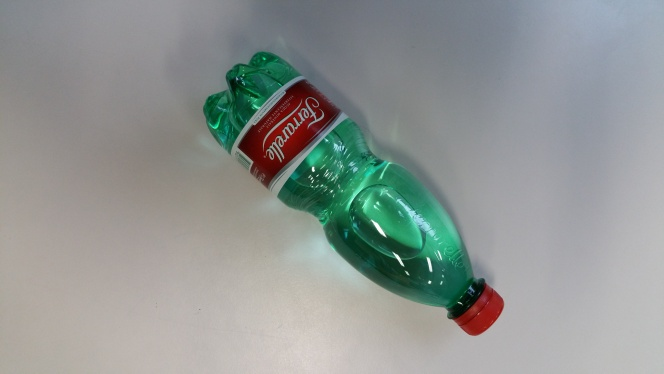bottle: (194, 41, 507, 332)
